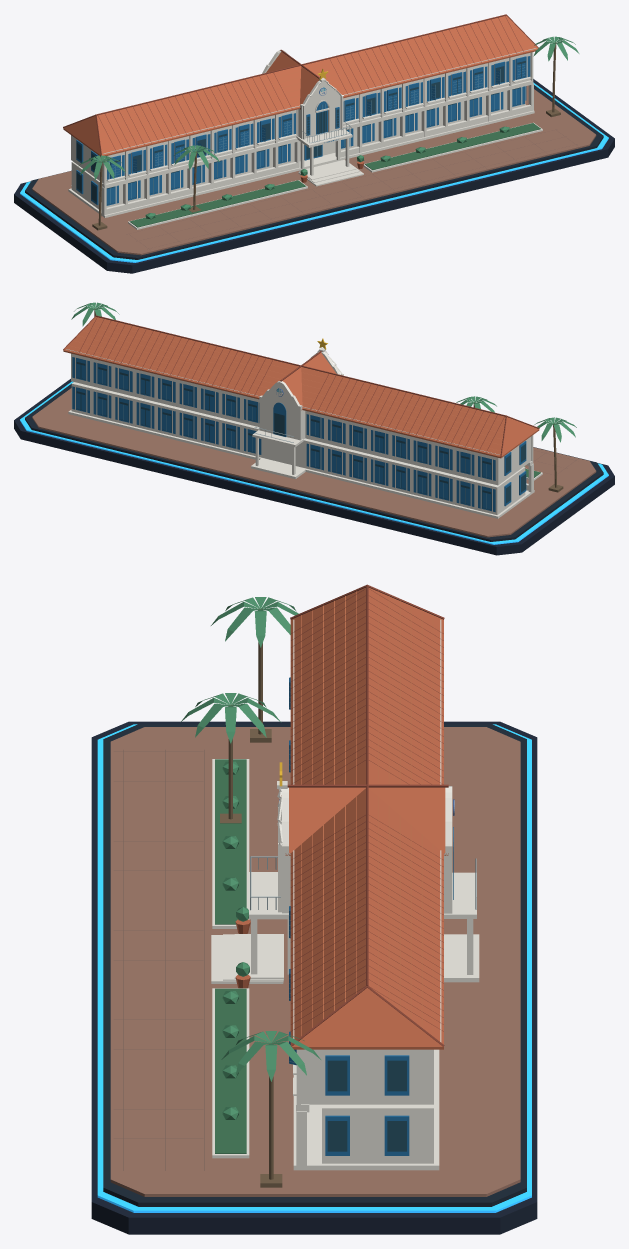
The model's file is ntu_hq.glb.
3 views of the same model, one above another, from view 1: azimuth 30°, elevation 25°; view 2: azimuth 150°, elevation 25°; view 3: azimuth 270°, elevation 25° (orthographic). The views are drawn at different scales.
Parts seen in each view (by area): view 1: NTU | NTU warm white F0EEE6, NTU | NTU terracotta courtyard, NTU | NTU terracotta C46D4D, NTU | NTU blue painted joinery 2979AF, NTU | R2PL dark polygonal platform, NTU | NTU porch shadow, NTU | NTU roof channels 8B4939, NTU | NTU lawn dark green, NTU | NTU recessed dark blue glass, NTU | NTU blue cyan perimeter, NTU | NTU tropical foliage 4B8F69, NTU | NTU roof light CF7954 (+3 smaller); view 2: NTU | NTU warm white F0EEE6, NTU | NTU terracotta C46D4D, NTU | NTU blue painted joinery 2979AF, NTU | NTU terracotta courtyard, NTU | R2PL dark polygonal platform, NTU | NTU roof channels 8B4939, NTU | NTU porch shadow, NTU | NTU recessed dark blue glass, NTU | NTU blue cyan perimeter, NTU | NTU roof light CF7954, NTU | NTU tropical foliage 4B8F69, NTU | NTU soft blue glass 81B8D3; view 3: NTU | NTU terracotta courtyard, NTU | NTU terracotta C46D4D, NTU | NTU warm white F0EEE6, NTU | R2PL dark polygonal platform, NTU | NTU porch shadow, NTU | NTU roof channels 8B4939, NTU | NTU lawn dark green, NTU | NTU blue cyan perimeter, NTU | NTU tropical foliage 4B8F69, NTU | NTU roof light CF7954, NTU | NTU recessed dark blue glass, NTU | NTU blue painted joinery 2979AF (+2 smaller).
Part boxes in pixels (bbox=[...]): NTU | NTU warm white F0EEE6: bbox=[68, 48, 542, 229]; NTU | NTU terracotta courtyard: bbox=[32, 85, 596, 255]; NTU | NTU terracotta C46D4D: bbox=[63, 15, 537, 182]; NTU | NTU blue painted joinery 2979AF: bbox=[76, 56, 530, 205]; NTU | R2PL dark polygonal platform: bbox=[14, 79, 614, 273]; NTU | NTU porch shadow: bbox=[25, 85, 603, 259]; NTU | NTU roof channels 8B4939: bbox=[63, 14, 538, 155]; NTU | NTU lawn dark green: bbox=[129, 123, 540, 227]; NTU | NTU recessed dark blue glass: bbox=[76, 61, 525, 204]; NTU | NTU blue cyan perimeter: bbox=[20, 82, 608, 262]; NTU | NTU tropical foliage 4B8F69: bbox=[78, 36, 579, 219]; NTU | NTU roof light CF7954: bbox=[98, 20, 533, 149]; NTU | NTU warm white F0EEE6: bbox=[66, 347, 542, 518]; NTU | NTU terracotta C46D4D: bbox=[63, 317, 539, 458]; NTU | NTU blue painted joinery 2979AF: bbox=[72, 357, 526, 512]; NTU | NTU terracotta courtyard: bbox=[32, 388, 596, 537]; NTU | R2PL dark polygonal platform: bbox=[14, 379, 614, 555]; NTU | NTU roof channels 8B4939: bbox=[63, 315, 539, 456]; NTU | NTU porch shadow: bbox=[25, 383, 603, 541]; NTU | NTU recessed dark blue glass: bbox=[76, 362, 525, 509]; NTU | NTU blue cyan perimeter: bbox=[20, 381, 608, 544]; NTU | NTU roof light CF7954: bbox=[68, 321, 502, 450]; NTU | NTU tropical foliage 4B8F69: bbox=[71, 302, 576, 466]; NTU | NTU soft blue glass 81B8D3: bbox=[102, 370, 486, 508]; NTU | NTU terracotta courtyard: bbox=[110, 727, 520, 1196]; NTU | NTU terracotta C46D4D: bbox=[235, 587, 448, 1049]; NTU | NTU warm white F0EEE6: bbox=[211, 619, 479, 1170]; NTU | R2PL dark polygonal platform: bbox=[91, 721, 537, 1234]; NTU | NTU porch shadow: bbox=[103, 724, 526, 1206]; NTU | NTU roof channels 8B4939: bbox=[287, 584, 448, 1046]; NTU | NTU lawn dark green: bbox=[215, 759, 246, 1153]; NTU | NTU blue cyan perimeter: bbox=[97, 724, 531, 1212]; NTU | NTU tropical foliage 4B8F69: bbox=[180, 597, 320, 1119]; NTU | NTU roof light CF7954: bbox=[301, 591, 433, 1036]; NTU | NTU recessed dark blue glass: bbox=[327, 1060, 406, 1151]; NTU | NTU blue painted joinery 2979AF: bbox=[289, 677, 453, 1155].
Bounding box in the file's own units: 33.3 × 7.02 × 12.65.
